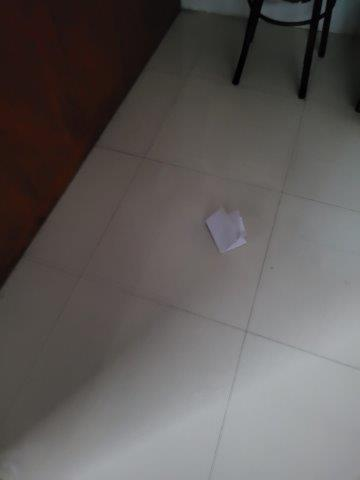kertas: (204, 208, 247, 252)
